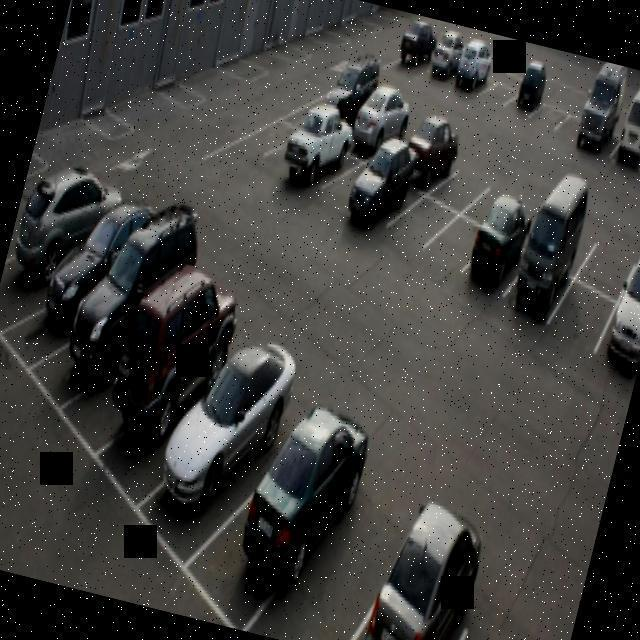car: (194, 381, 370, 640), (143, 334, 310, 559), (62, 243, 213, 480), (98, 304, 250, 528), (258, 443, 418, 640), (48, 216, 186, 408), (0, 146, 114, 322), (17, 208, 134, 378), (343, 512, 487, 640), (459, 196, 538, 310), (282, 91, 358, 200), (352, 135, 421, 252), (508, 221, 574, 325), (349, 64, 418, 144), (402, 106, 462, 180), (320, 55, 384, 119), (392, 22, 444, 88), (574, 107, 622, 172), (451, 47, 494, 110), (422, 44, 464, 96), (609, 117, 640, 183), (508, 80, 544, 127)
free: (313, 123, 386, 240), (387, 156, 457, 264), (587, 292, 640, 412), (550, 282, 615, 378), (440, 596, 564, 640), (429, 207, 487, 293), (235, 91, 296, 170), (576, 224, 636, 298), (436, 132, 492, 207), (471, 157, 524, 226), (541, 190, 598, 252), (478, 70, 520, 121), (513, 176, 556, 223), (550, 108, 588, 152), (529, 99, 564, 137), (626, 231, 640, 295)
